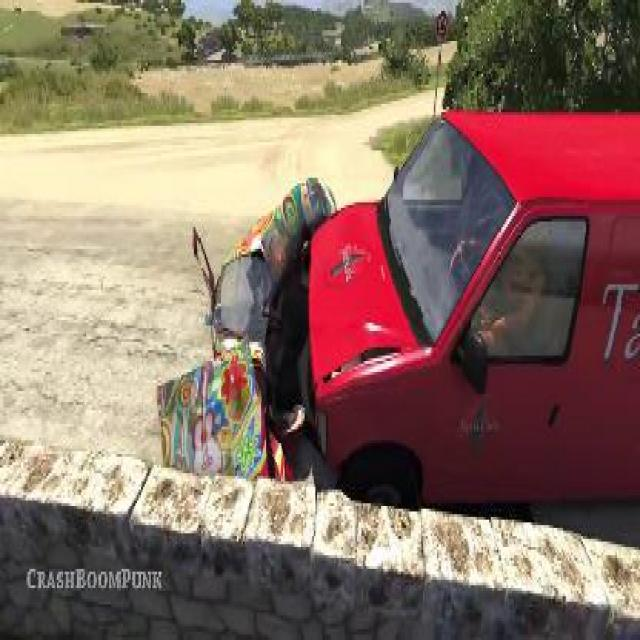accident: (152, 98, 638, 520)
